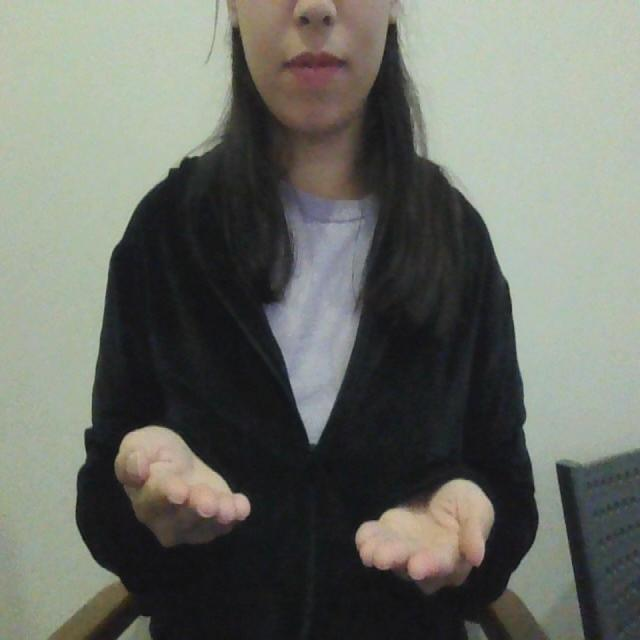Evet: (111, 423, 500, 592)
